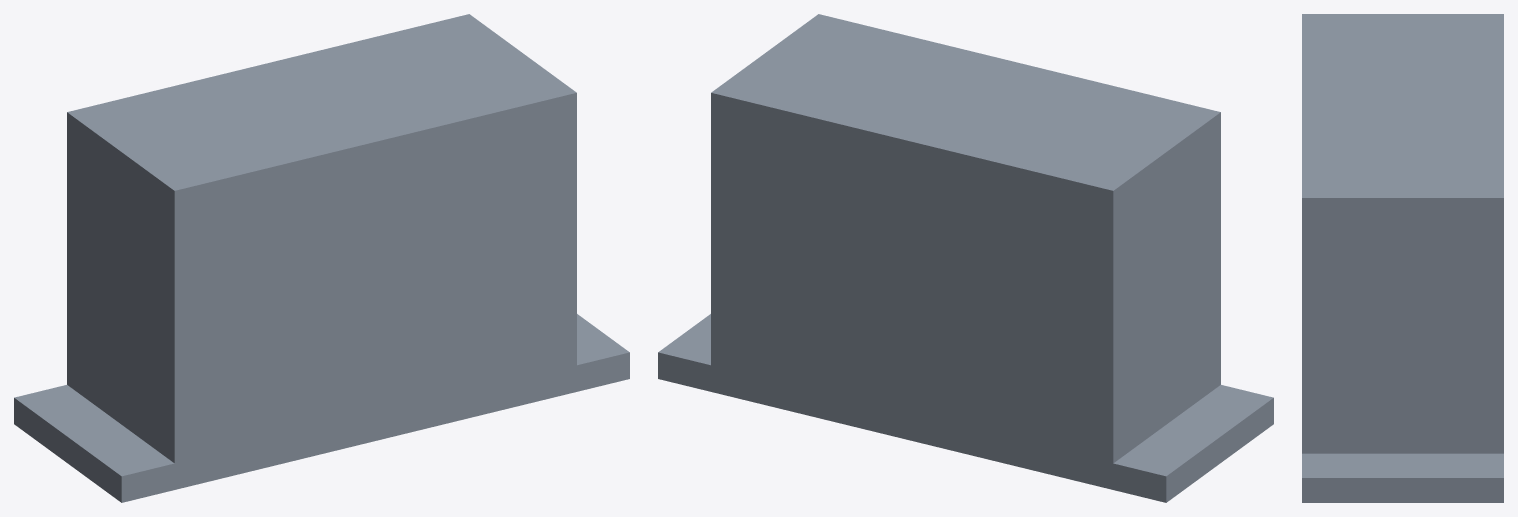
Rendered from step_01.glb.
3 renders of one model, left to right at view 1: azimuth 30°, elevation 25°; view 2: azimuth 150°, elevation 25°; view 3: azimuth 270°, elevation 25°, orthographic. The views are drawn at different scales.
Parts seen in each view (by area): view 1: part__gearbox housing; view 2: part__gearbox housing; view 3: part__gearbox housing.
Boxes of the visible parts, <box> form: part__gearbox housing: <box>14,14,629,502</box>; part__gearbox housing: <box>658,14,1273,502</box>; part__gearbox housing: <box>1302,14,1503,502</box>.
Size of the model in its own units: 240 by 135 by 88.
